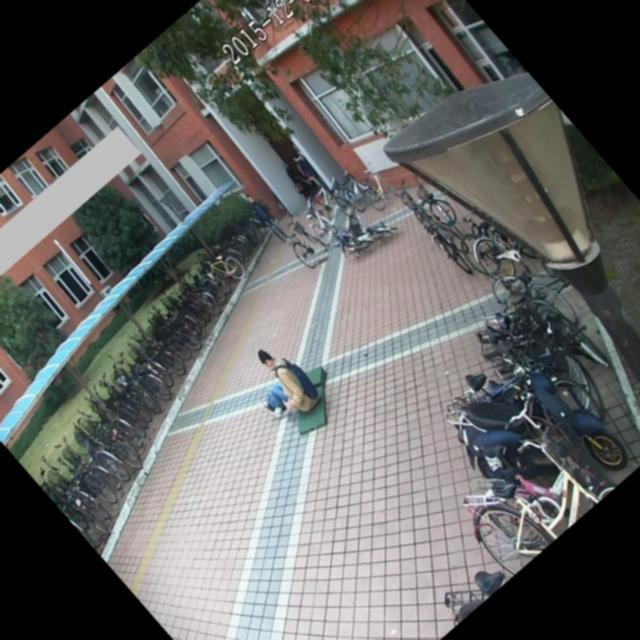person: (230, 334, 328, 438), (236, 185, 296, 250)
